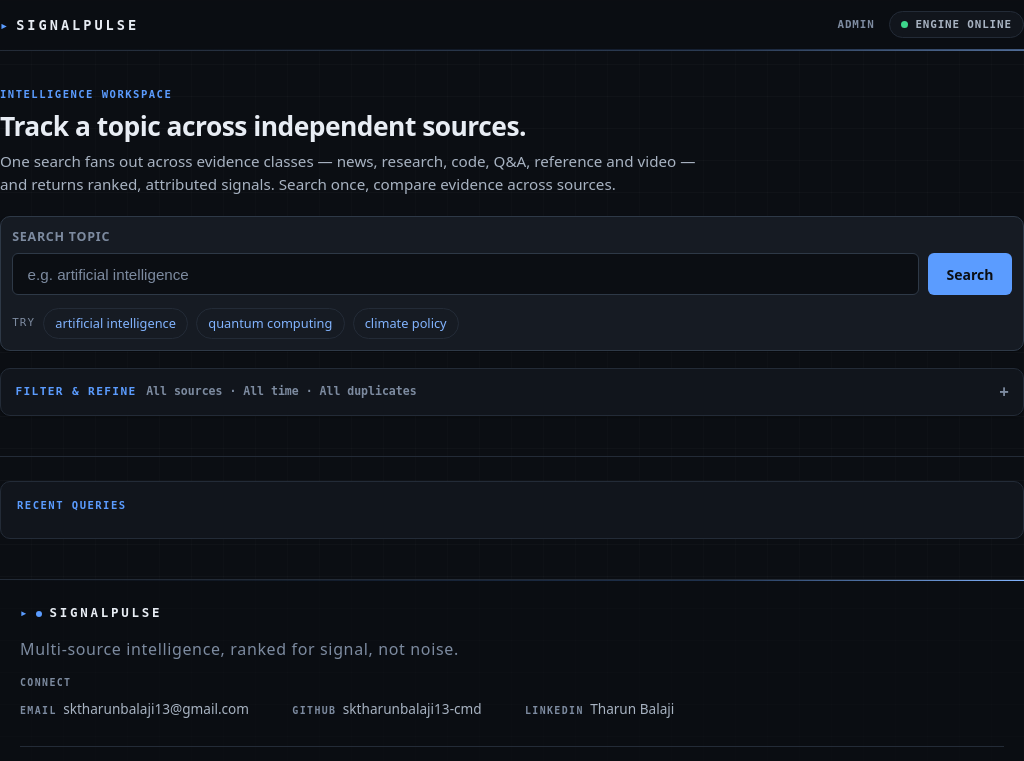
Test case: App › shows author and duplicate badge on cards
Step 1. Type "ai" into the field labelled "Search topic" → (465, 274), box [12,253,918,295]
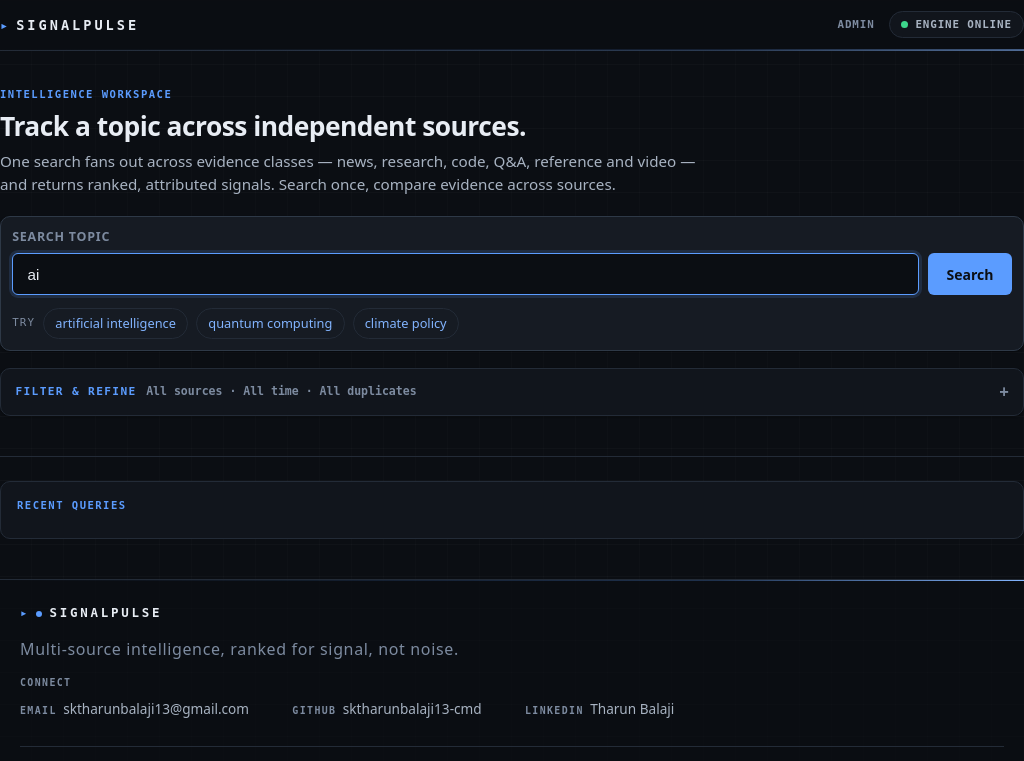
Step 2. Click the button "Search" → (970, 274), box [928,253,1012,295]
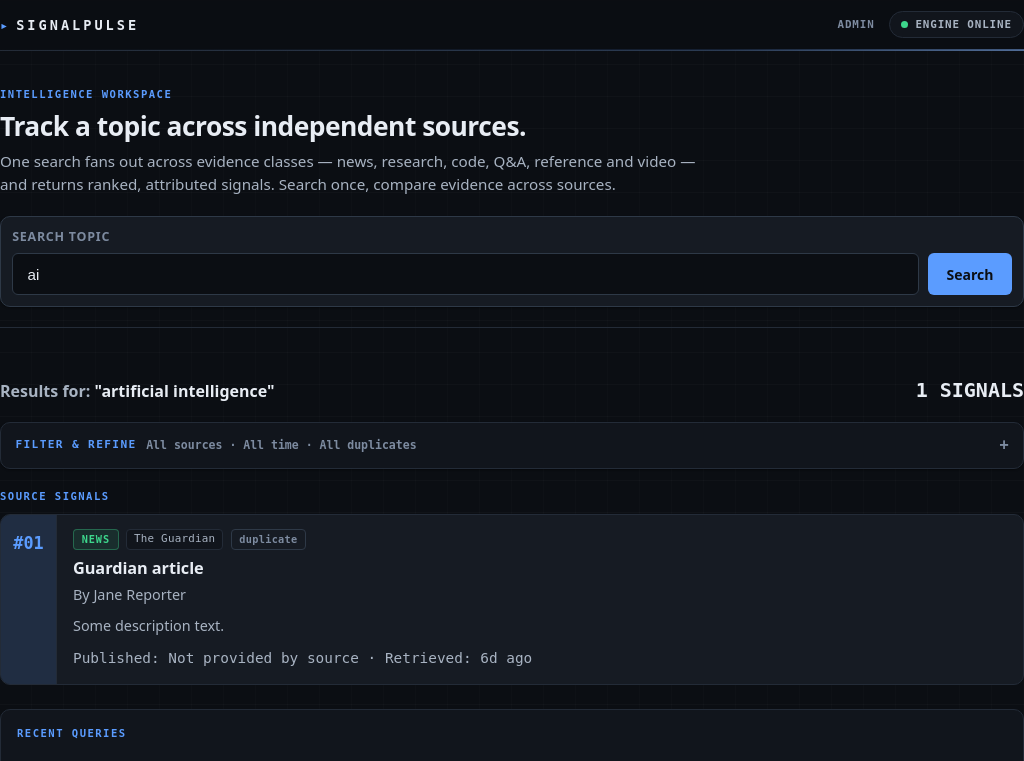
Check: the text "By Jane Reporter" is shown, box [73,585,186,604]
Check: the text "duplicate" is shown, box [231,529,306,550]
